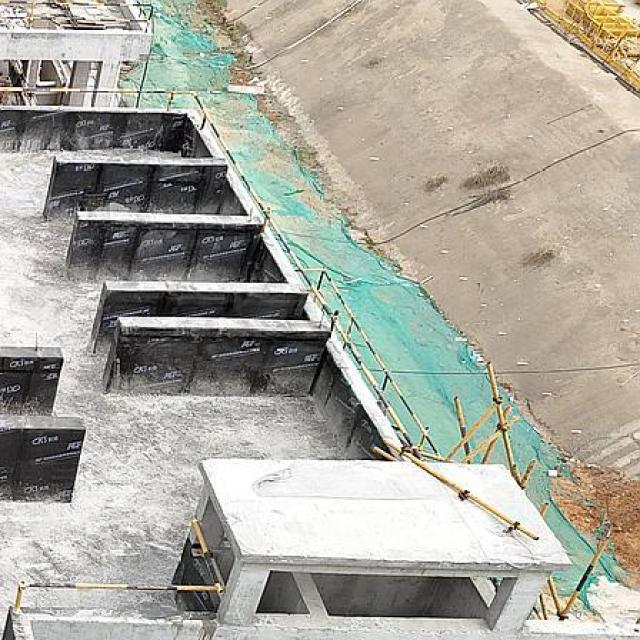edge_guardrail: (0, 86, 443, 458), (12, 516, 227, 616), (0, 0, 154, 34)
